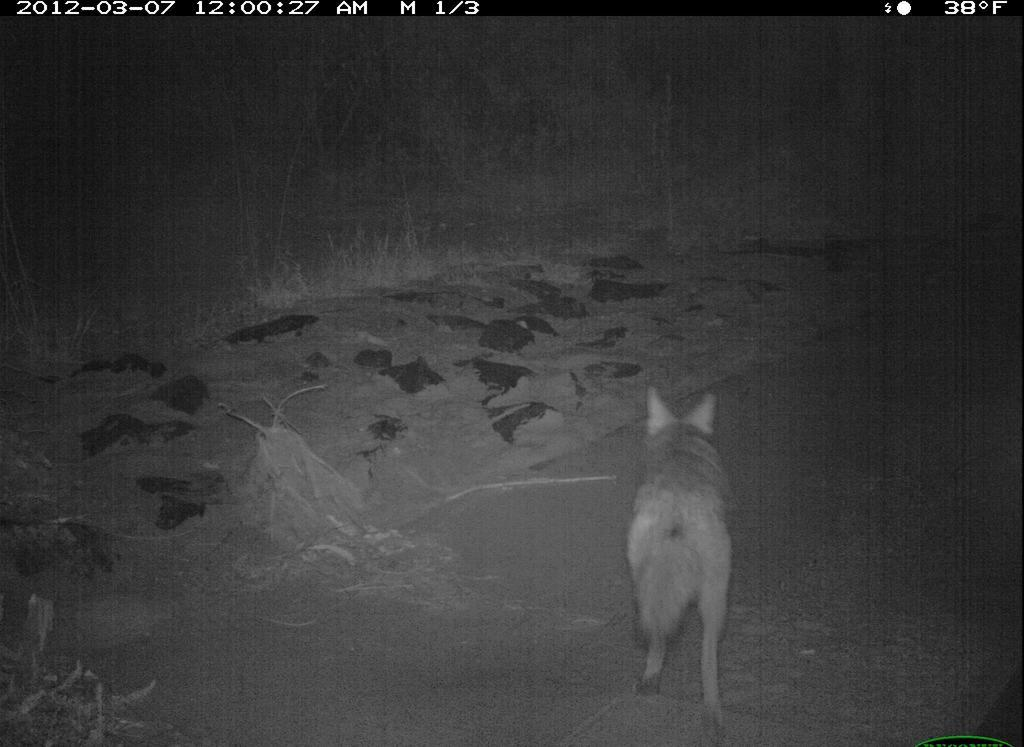coyote: (617, 381, 744, 735)
